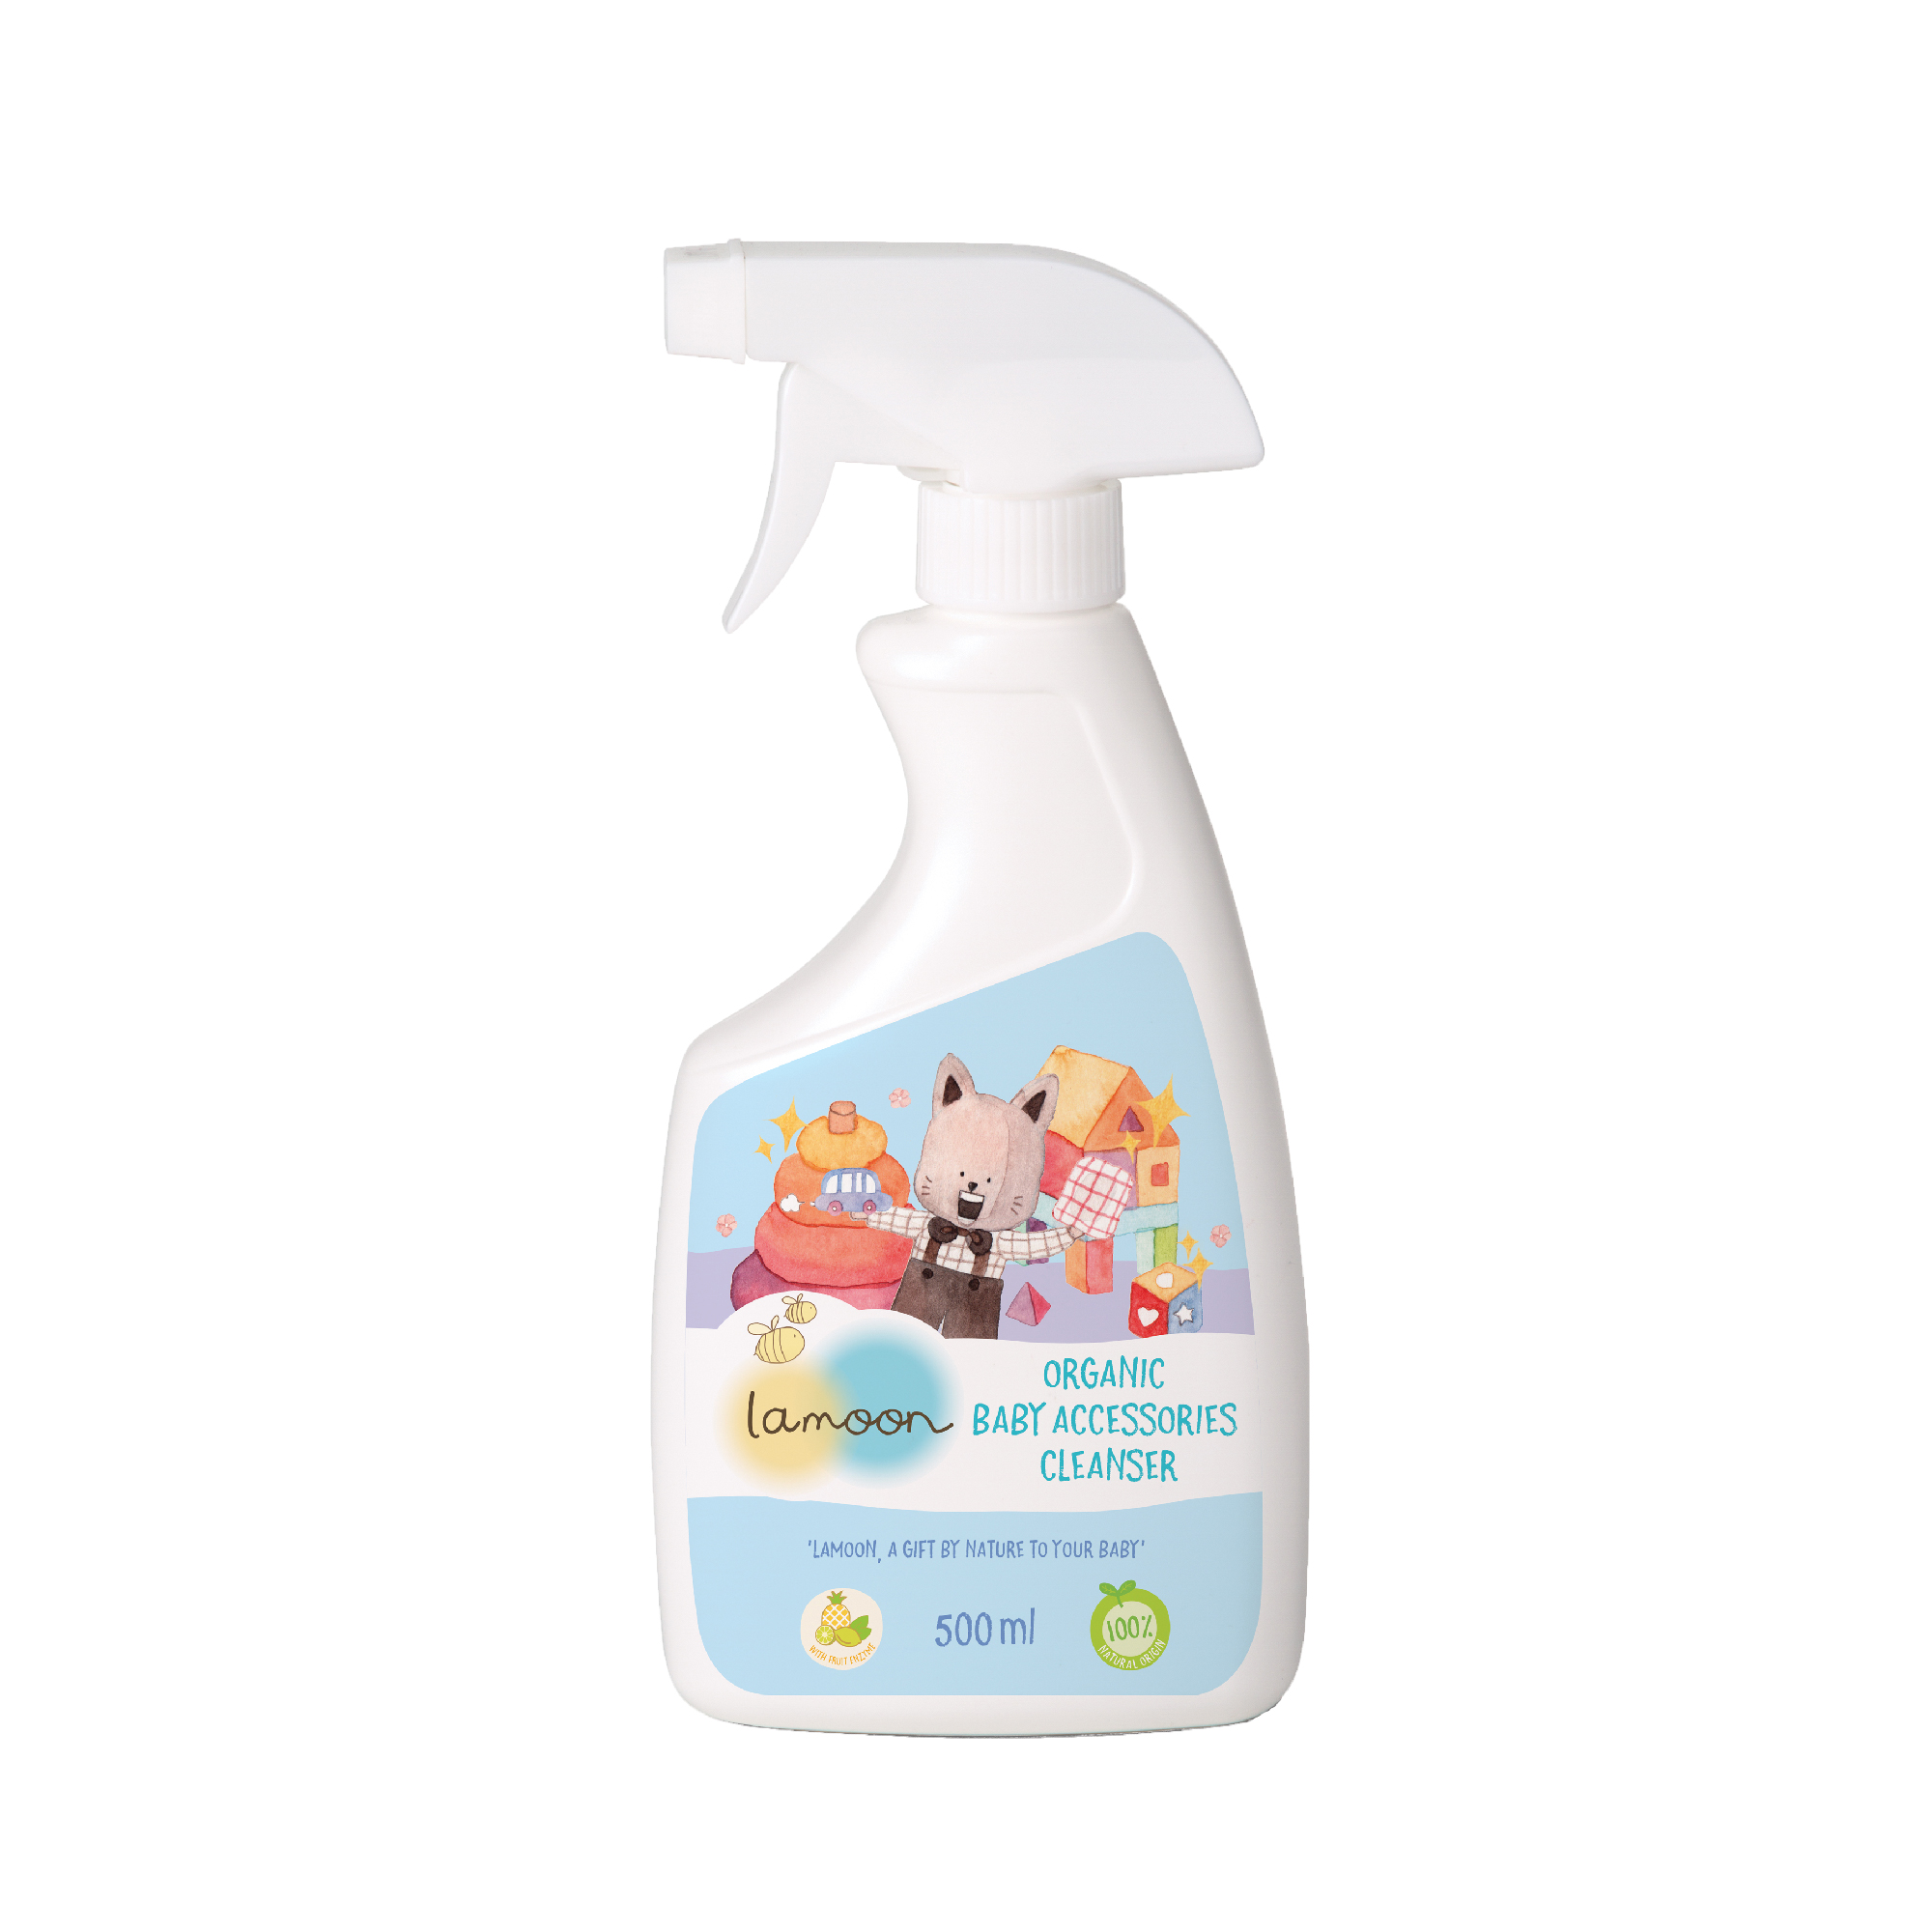Cleaning_solution: (607, 212, 1348, 1769)
